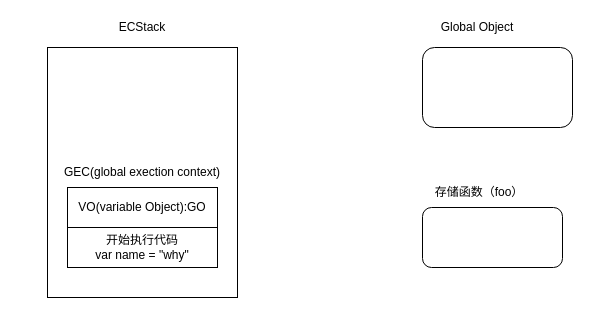
The diagram is 590 pixels wide and 315 high, and some of its shapes have lost their labels. Each missing label, with the centre of its shape:
"[[scope]]:parent scope" goes at point 492,237.
"{ name:undfined, foo: }" goes at point 497,87.
